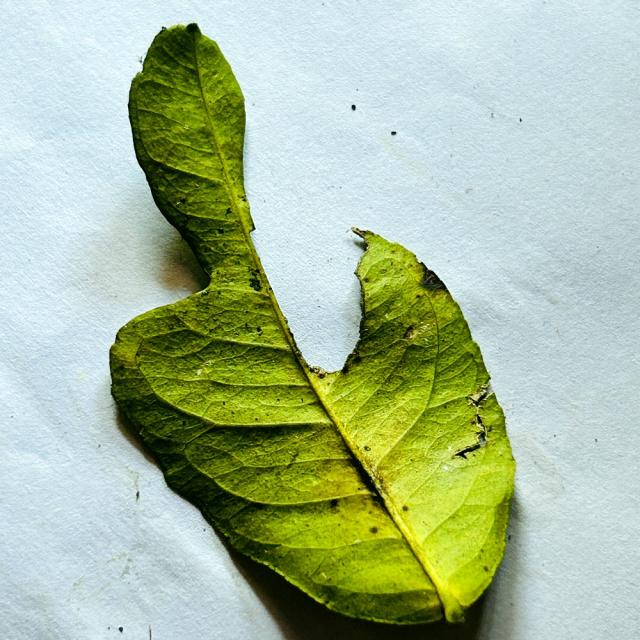Deficiency Leaf: (244, 97, 364, 371), (98, 107, 206, 350)
Lemon: (110, 26, 514, 623)
